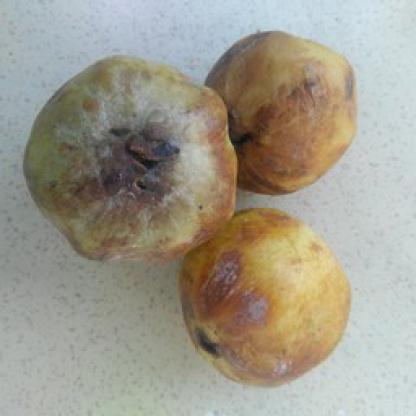guava_rotten: (16, 51, 246, 263), (177, 204, 356, 387), (204, 28, 358, 200)
